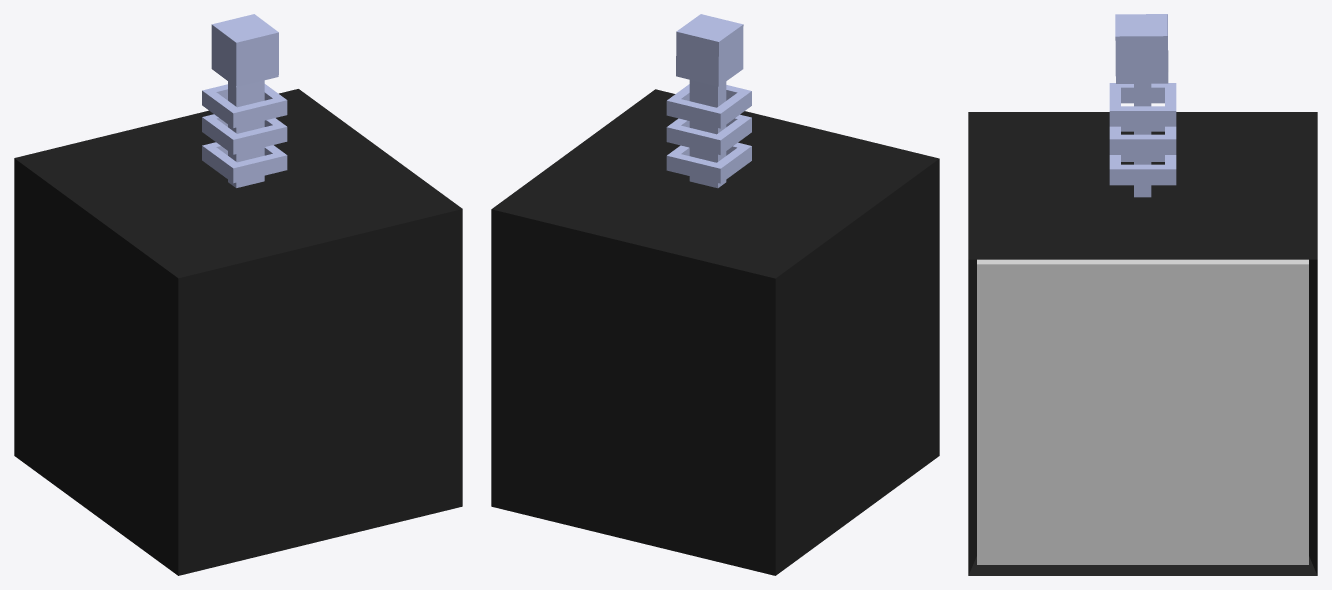
The model's file is nanobot.fbx.
The picture shows the model from 3 angles, left to right: view 1: azimuth 30°, elevation 25°; view 2: azimuth 150°, elevation 25°; view 3: azimuth 270°, elevation 25°; orthographic projection. The views are drawn at different scales.
Visible parts, largest first — view 1: Cuerpo, AntenaCube, Aro3, Aro1, Aro2, Antena1; view 2: Cuerpo, AntenaCube, Aro3, Aro1, Aro2, Antena1; view 3: Vidrio, Cuerpo, AntenaCube, Aro3, Aro1, Aro2, Antena1.
Part boxes in pixels (x1,y1,x2,y2): Cuerpo: [14, 89, 462, 575]; AntenaCube: [211, 14, 278, 87]; Aro3: [202, 84, 287, 127]; Aro1: [202, 142, 287, 183]; Aro2: [202, 114, 287, 154]; Antena1: [228, 80, 264, 187]; Cuerpo: [491, 89, 939, 575]; AntenaCube: [676, 14, 743, 86]; Aro3: [666, 84, 751, 128]; Aro1: [666, 142, 751, 183]; Aro2: [666, 114, 751, 154]; Antena1: [689, 80, 726, 188]; Vidrio: [977, 259, 1308, 564]; Cuerpo: [968, 112, 1317, 575]; AntenaCube: [1115, 14, 1168, 83]; Aro3: [1109, 83, 1176, 126]; Aro1: [1109, 155, 1176, 185]; Aro2: [1109, 126, 1176, 154]; Antena1: [1134, 83, 1151, 197].
Size of the model in its own units: 200 by 304 by 200.
